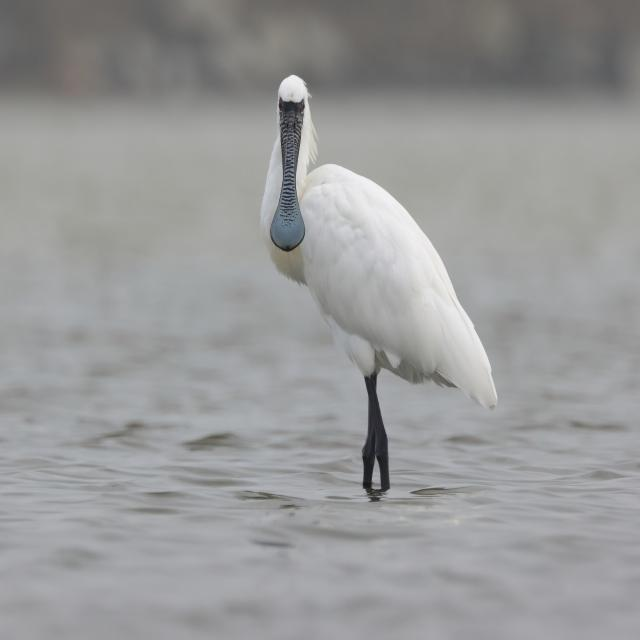Black-faced spoonbill: (261, 76, 497, 490)
